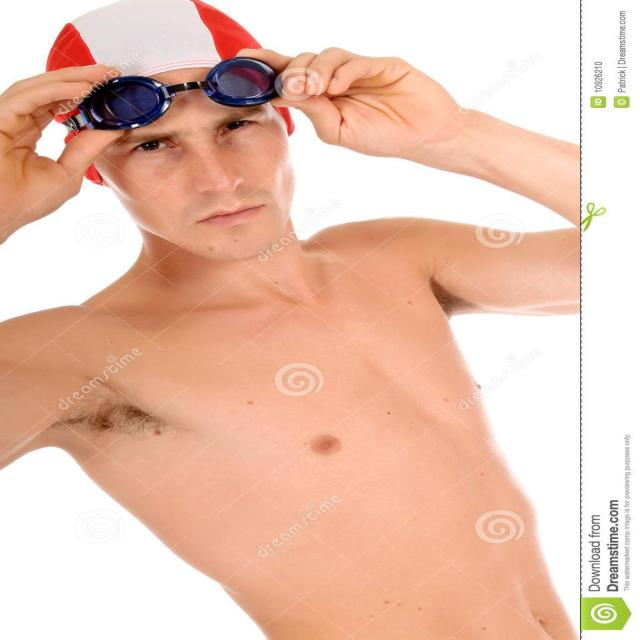Face: (73, 75, 316, 266)
